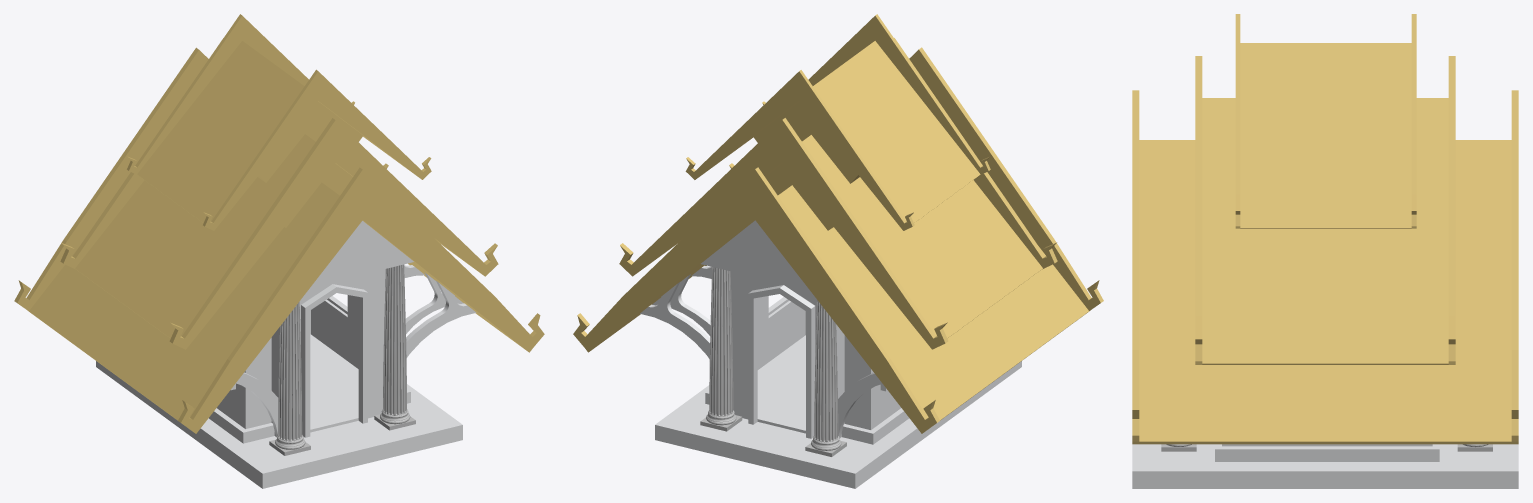
File: cal007.glb
3 views of the same model, side by side, from view 1: azimuth 30°, elevation 25°; view 2: azimuth 150°, elevation 25°; view 3: azimuth 270°, elevation 25° (orthographic). The views are drawn at different scales.
Visible parts, largest first — view 1: Part25[140], Part4[52], Part1[11], Part4[311], Part44[210], Part7[165], Part7[59], Part7[168], Part7[150], Part7[56], Corinthian_shaft[206], Corinthian_shaft[207] (+12 smaller); view 2: Part25[140], Part4[52], Part1[11], Part4[311], Part44[210], Part7[150], Part7[95], Part7[153], Part7[165], Part7[92], Corinthian_shaft[205], Corinthian_shaft[204] (+12 smaller); view 3: Part25[140], Part4[46], Part4[308], Part44[210], Part42[190], Part7[153], Part7[168], Part7[56], Part7[92], Part7[302], Part7[314], Part1[11].
Part boxes in pixels (x1=…): Part25[140]: x1=28, y1=182, x2=532, y2=433; Part4[52]: x1=75, y1=134, x2=315, y2=338; Part1[11]: x1=217, y1=269, x2=385, y2=437; Part4[311]: x1=137, y1=41, x2=304, y2=222; Part44[210]: x1=96, y1=361, x2=462, y2=488; Part7[165]: x1=178, y1=167, x2=362, y2=430; Part7[59]: x1=169, y1=118, x2=335, y2=349; Part7[168]: x1=362, y1=170, x2=544, y2=347; Part7[150]: x1=14, y1=47, x2=199, y2=310; Part7[56]: x1=335, y1=120, x2=498, y2=276; Corinthian_shaft[206]: x1=374, y1=264, x2=415, y2=430; Corinthian_shaft[207]: x1=269, y1=301, x2=310, y2=455; Part25[140]: x1=585, y1=185, x2=1089, y2=433; Part4[52]: x1=802, y1=135, x2=1042, y2=338; Part1[11]: x1=730, y1=271, x2=900, y2=438; Part4[311]: x1=813, y1=41, x2=980, y2=222; Part44[210]: x1=655, y1=361, x2=1021, y2=488; Part7[150]: x1=755, y1=167, x2=939, y2=430; Part7[95]: x1=782, y1=118, x2=948, y2=349; Part7[153]: x1=573, y1=170, x2=754, y2=347; Part7[165]: x1=919, y1=47, x2=1103, y2=310; Part7[92]: x1=619, y1=120, x2=782, y2=276; Corinthian_shaft[205]: x1=700, y1=267, x2=742, y2=431; Corinthian_shaft[204]: x1=805, y1=300, x2=846, y2=456; Part25[140]: x1=1132, y1=140, x2=1518, y2=444; Part4[46]: x1=1202, y1=98, x2=1448, y2=364; Part4[308]: x1=1240, y1=43, x2=1411, y2=228; Part44[210]: x1=1132, y1=444, x2=1518, y2=488; Part42[190]: x1=1215, y1=444, x2=1439, y2=461; Part7[153]: x1=1511, y1=90, x2=1518, y2=441; Part7[168]: x1=1132, y1=90, x2=1139, y2=441; Part7[56]: x1=1195, y1=56, x2=1202, y2=364; Part7[92]: x1=1448, y1=56, x2=1455, y2=364; Part7[302]: x1=1235, y1=14, x2=1240, y2=228; Part7[314]: x1=1411, y1=14, x2=1416, y2=228; Part1[11]: x1=1222, y1=444, x2=1432, y2=446.
Bounding box in the file's own units: 0.00694 × 0.00658 × 0.00551.
